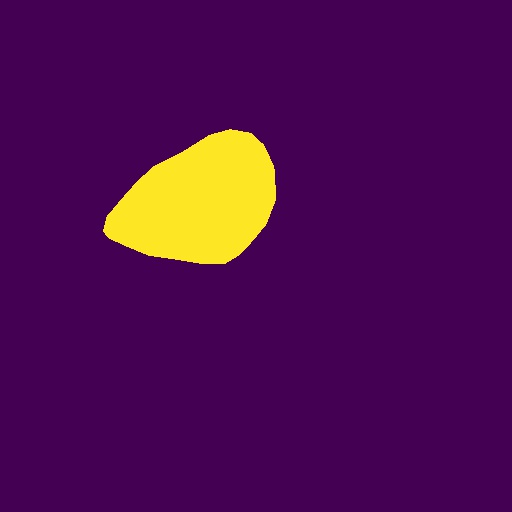Gliomia_tumour: (103, 129, 276, 264)
